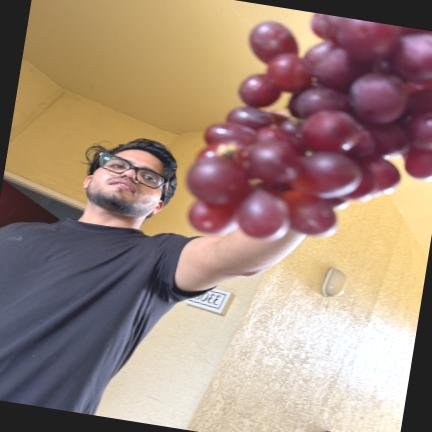grape_cluster: (188, 13, 432, 239)
